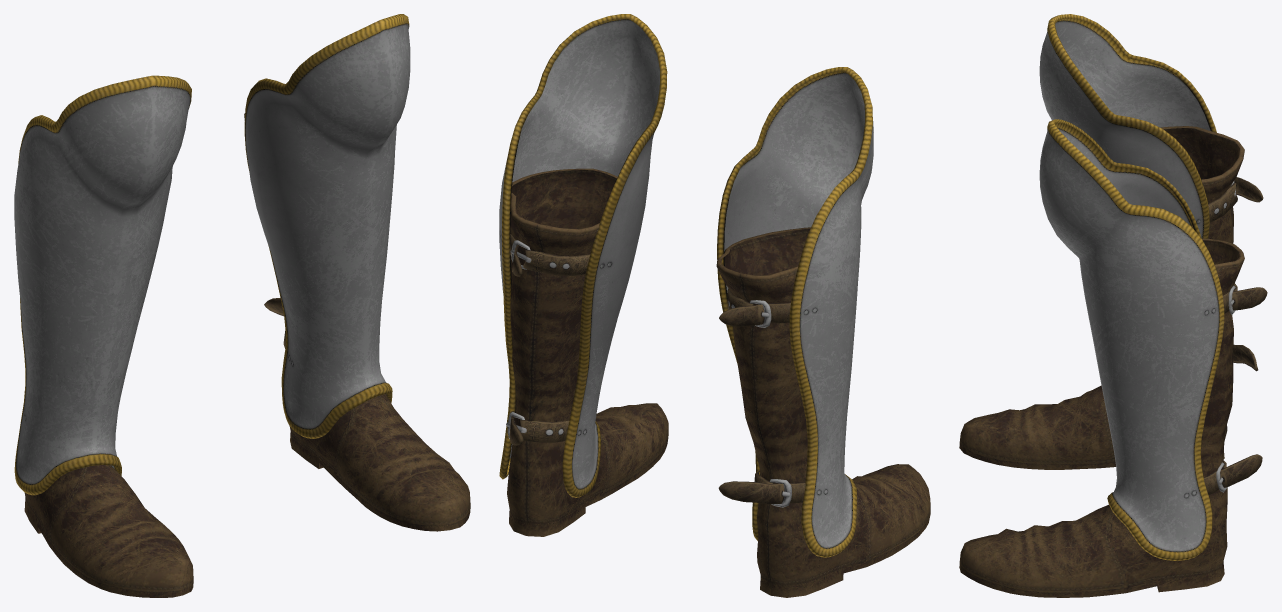
File: swan_knight_boots.fbx
The picture shows the model from 3 angles, left to right: view 1: azimuth 30°, elevation 25°; view 2: azimuth 150°, elevation 25°; view 3: azimuth 270°, elevation 25°; orthographic projection. The views are drawn at different scales.
Parts seen in each view (by area): view 1: swan_knight_boots.1; view 2: swan_knight_boots.1, swan_knight_boots.0; view 3: swan_knight_boots.1, swan_knight_boots.0.
Boxes of the visible parts, left/top/right/bottom form: swan_knight_boots.1: left=14, top=14, right=470, bottom=597; swan_knight_boots.1: left=499, top=14, right=930, bottom=597; swan_knight_boots.0: left=506, top=234, right=805, bottom=507; swan_knight_boots.1: left=959, top=14, right=1244, bottom=597; swan_knight_boots.0: left=1204, top=163, right=1267, bottom=494.
Bounding box in the file's own units: 0.4486 × 0.3527 × 0.563.
Materials: 2 (2 with a texture image).
